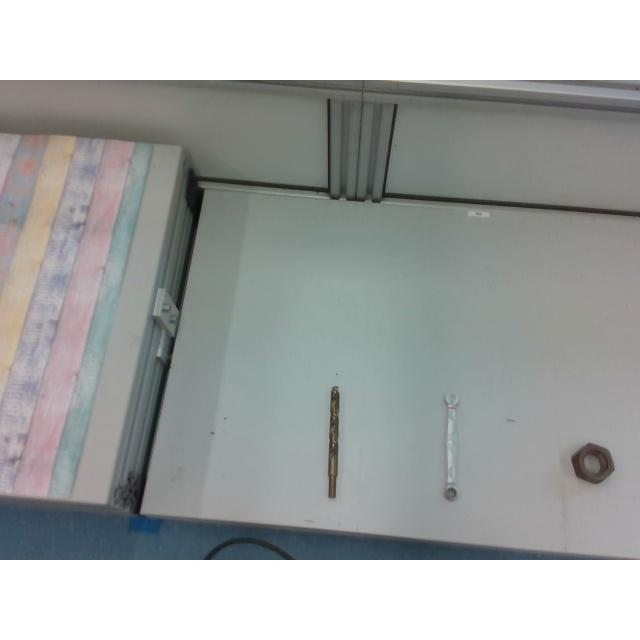Drill: (326, 384, 340, 500)
M30: (568, 442, 616, 484)
Wrench: (442, 392, 462, 501)
